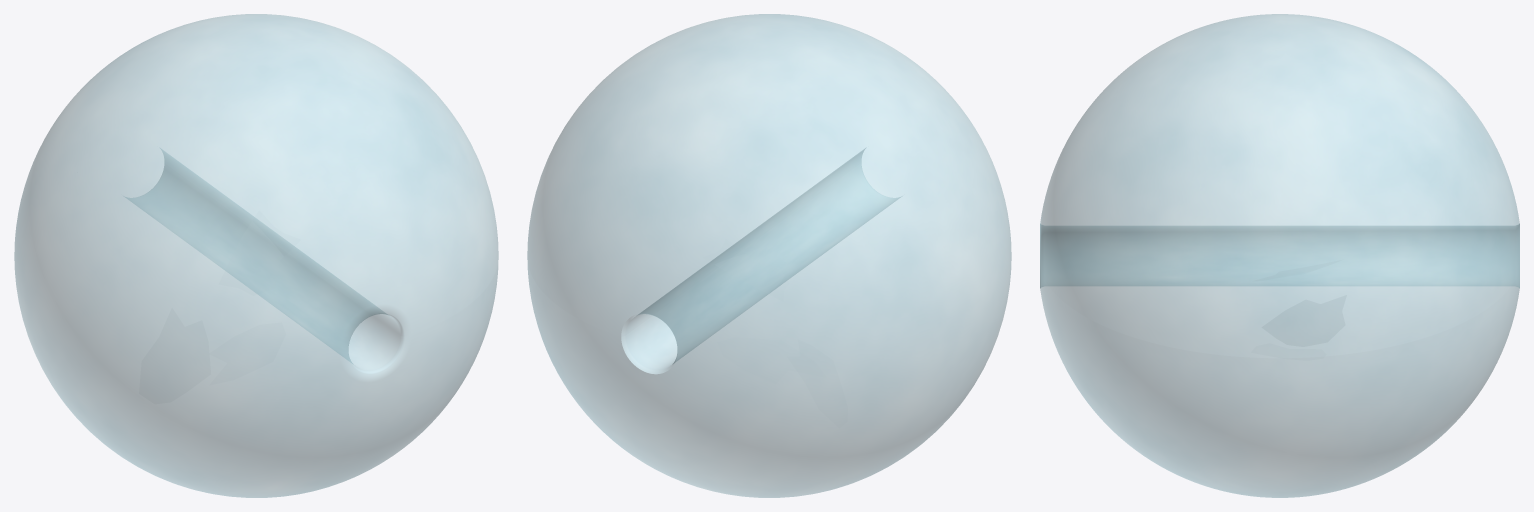
The model's file is aquamarine.glb.
3 views of the same model, side by side, from view 1: azimuth 30°, elevation 25°; view 2: azimuth 150°, elevation 25°; view 3: azimuth 270°, elevation 25° (orthographic).
Parts seen in each view (by area): view 1: aquamarine.001; view 2: aquamarine.001; view 3: aquamarine.001.
Part boxes in pixels (<box>): aquamarine.001: <box>14,14,498,497</box>; aquamarine.001: <box>527,14,1011,497</box>; aquamarine.001: <box>1040,14,1519,497</box>.
Size of the model in its own units: 0.008 by 0.008 by 0.00793.
Materials: 2 (1 with a texture image).
